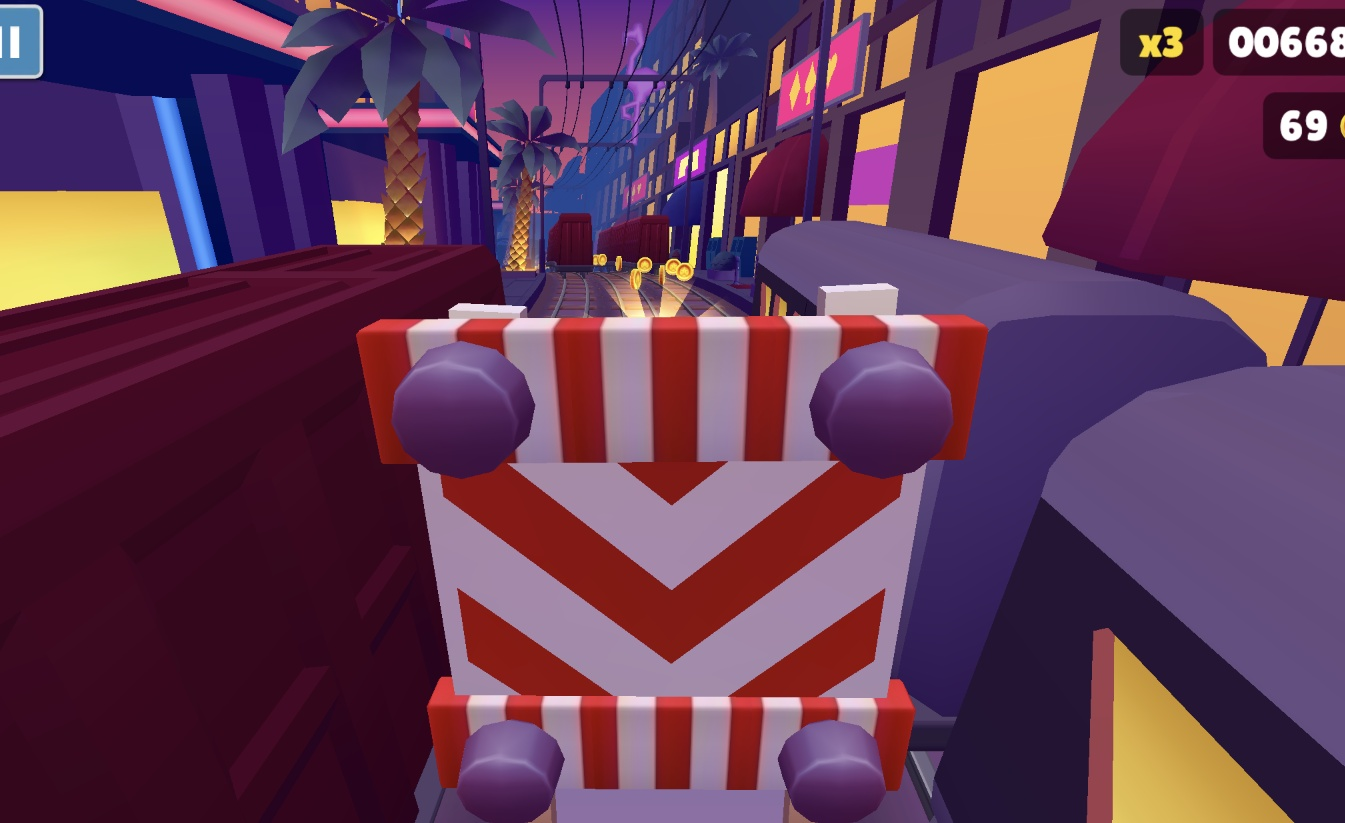overhead_barrier: (355, 290, 990, 823)
train: (760, 217, 1345, 823), (0, 237, 503, 823), (595, 217, 675, 280), (548, 209, 596, 273)
